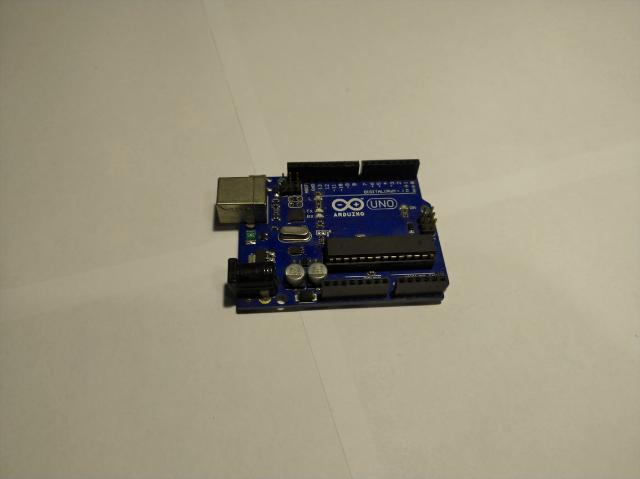arduino: (216, 159, 449, 311)
